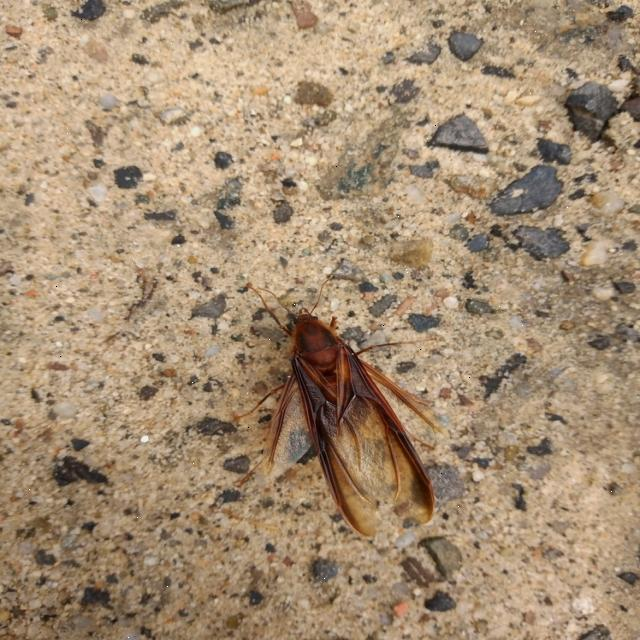Alive-Male-Alate: (235, 276, 438, 538)
